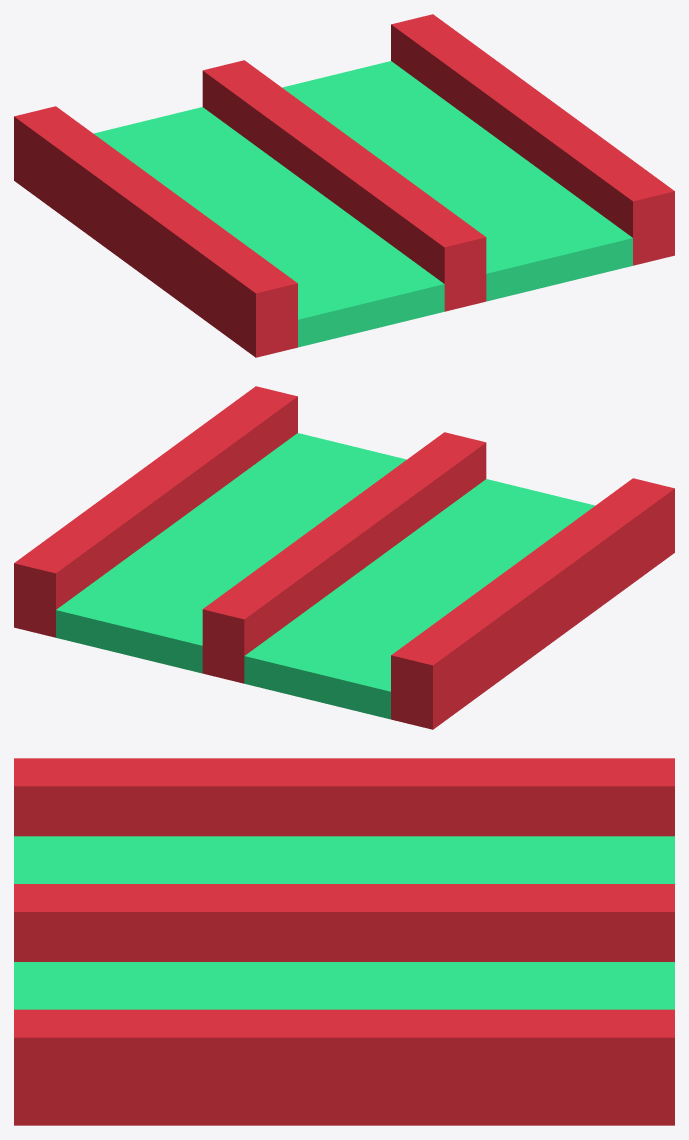
File: split.fbx
The picture shows the model from 3 angles, top to bottom: view 1: azimuth 30°, elevation 25°; view 2: azimuth 150°, elevation 25°; view 3: azimuth 270°, elevation 25°; orthographic projection. The views are drawn at different scales.
Visible parts, largest first — view 1: split; view 2: split; view 3: split.
Boxes of the visible parts, box(x1,y1,x2,y2) form: split: box(14, 14, 674, 357); split: box(14, 386, 674, 729); split: box(14, 758, 674, 1125).
Size of the model in its own units: 10 by 1.47 by 10.
